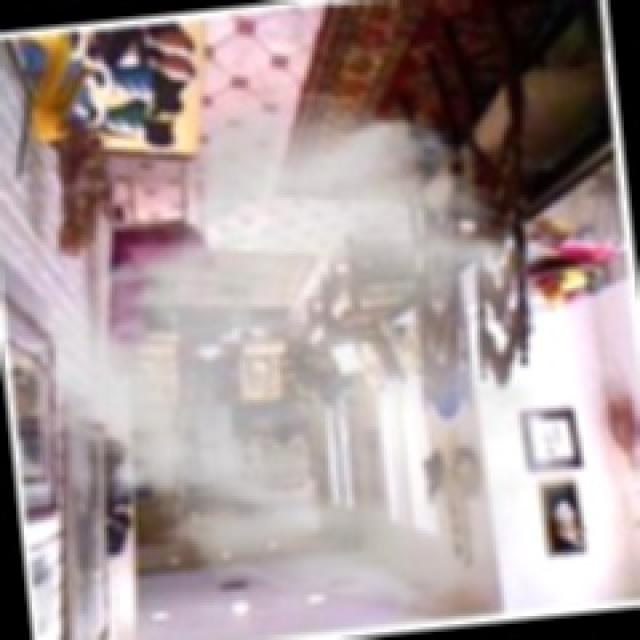smoke: (184, 153, 445, 420)
